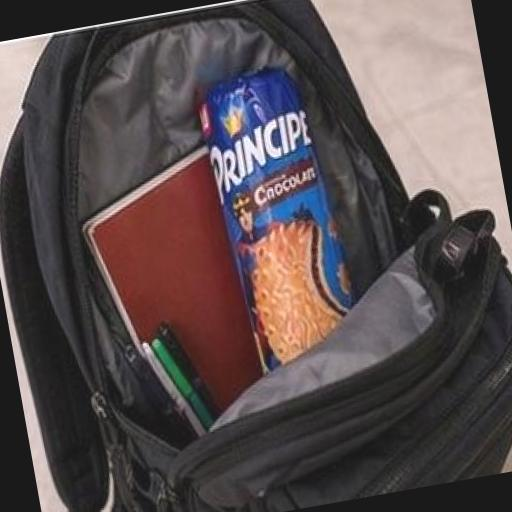prince: (126, 17, 464, 512)
